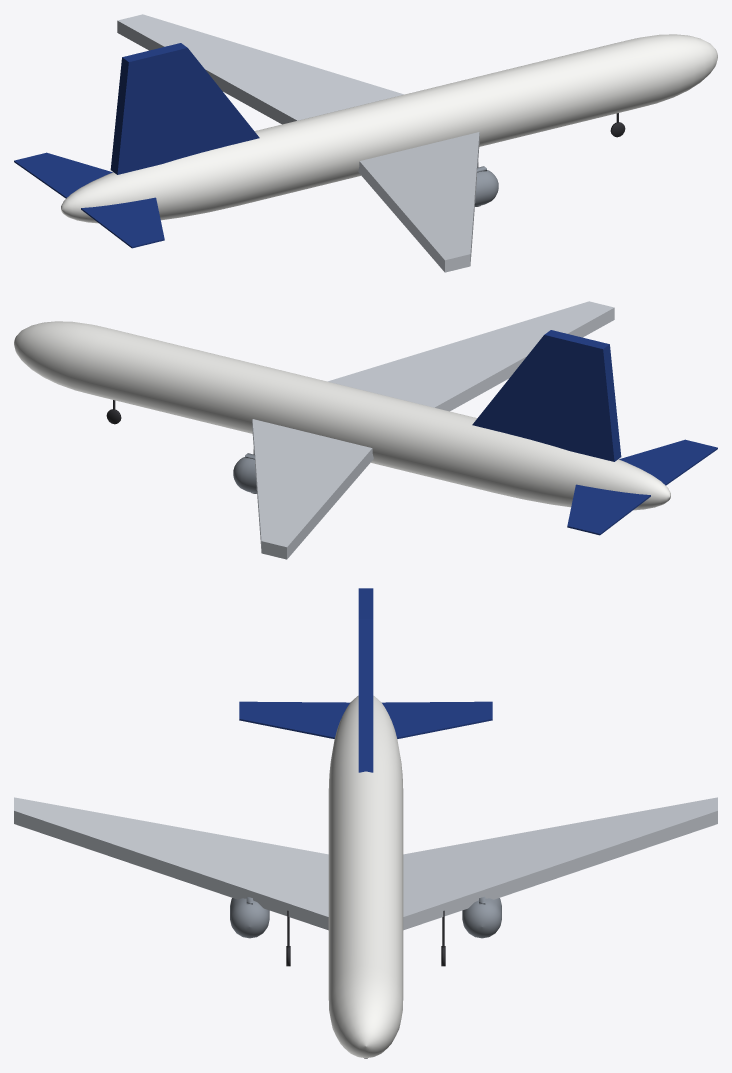
3 renders of one model, top to bottom at view 1: azimuth 30°, elevation 25°; view 2: azimuth 150°, elevation 25°; view 3: azimuth 270°, elevation 25°, orthographic. The views are drawn at different scales.
Visible parts, largest first — view 1: fuselage, wings, tail, engines; view 2: fuselage, wings, tail, engines; view 3: wings, fuselage, tail, engines.
Boxes of the visible parts, x1,y1,x2,y2 form: fuselage: [61, 34, 717, 223]; wings: [117, 14, 479, 272]; tail: [14, 43, 259, 248]; engines: [475, 166, 498, 206]; fuselage: [14, 321, 670, 510]; wings: [252, 301, 614, 559]; tail: [472, 330, 717, 535]; engines: [233, 453, 256, 493]; wings: [14, 797, 717, 930]; fuselage: [328, 695, 403, 1058]; tail: [239, 588, 492, 772]; engines: [230, 896, 501, 938].
Size of the model in its own units: 54.9 by 15.79 by 47.6.
